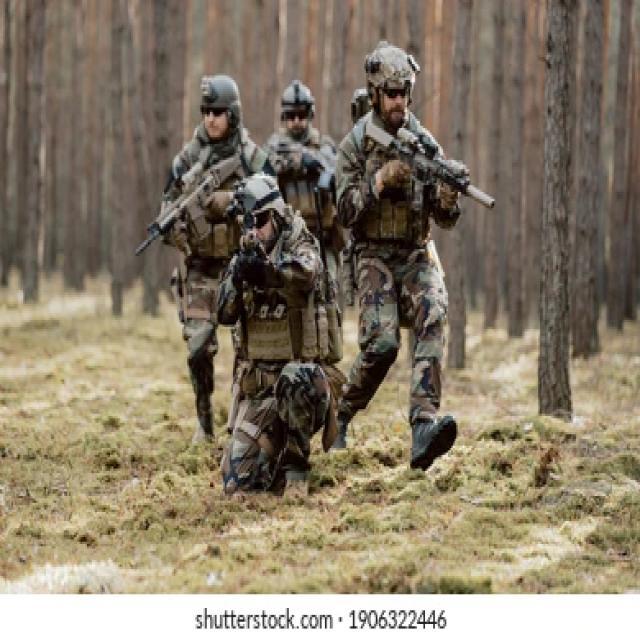soldier: (342, 46, 482, 473), (219, 182, 337, 519)
